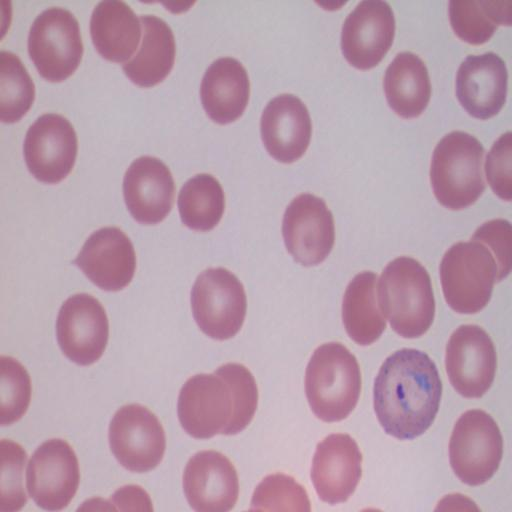Infected: (372, 348, 444, 441)
Uninfected: (304, 341, 361, 422), (71, 226, 139, 292), (431, 133, 488, 211), (380, 257, 435, 337), (441, 241, 499, 315), (191, 266, 247, 342), (444, 324, 499, 399), (27, 9, 83, 81), (282, 191, 336, 265), (109, 404, 166, 474), (450, 409, 501, 487), (120, 17, 176, 88), (26, 438, 79, 512), (53, 294, 108, 365), (178, 373, 233, 441), (121, 157, 176, 225), (340, 1, 394, 70), (24, 114, 78, 182), (311, 433, 362, 503), (341, 268, 387, 345), (182, 451, 239, 512), (454, 53, 507, 118), (261, 95, 312, 162), (202, 57, 250, 127), (213, 363, 258, 434), (89, 0, 140, 62), (384, 53, 430, 119), (178, 175, 224, 231)
